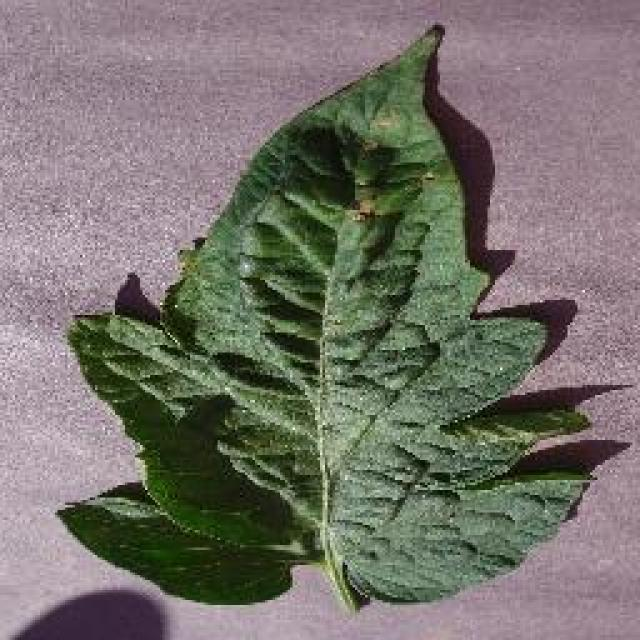Tomato Septoria spot leaf: (59, 22, 599, 610)
